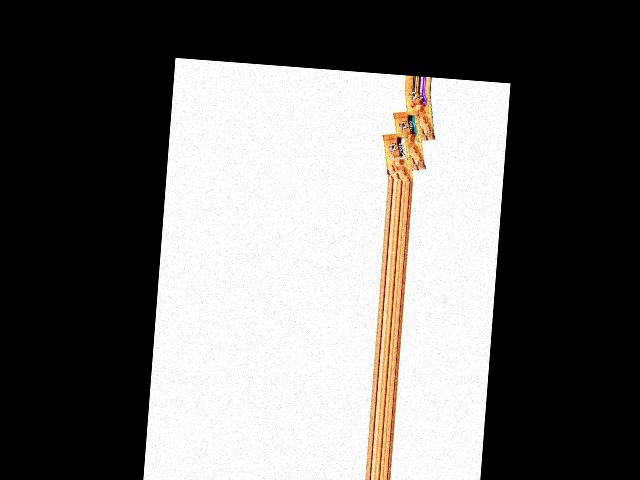chocolate: (400, 90, 435, 146)
